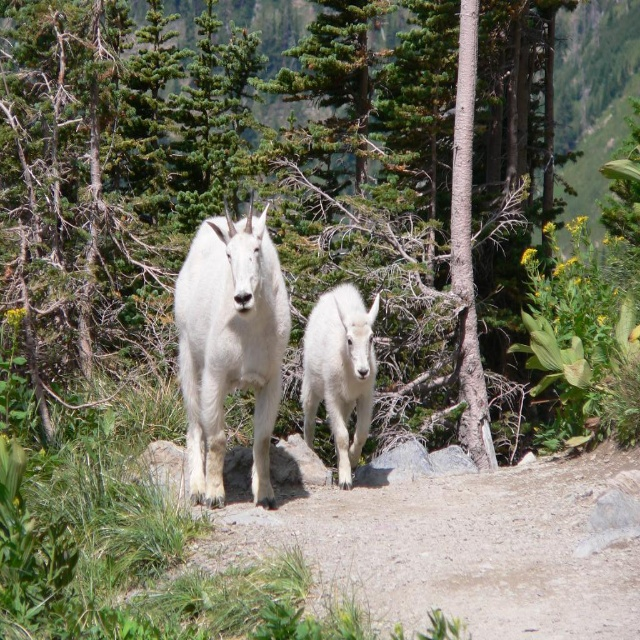Goat: (174, 187, 292, 514), (302, 279, 378, 487)
